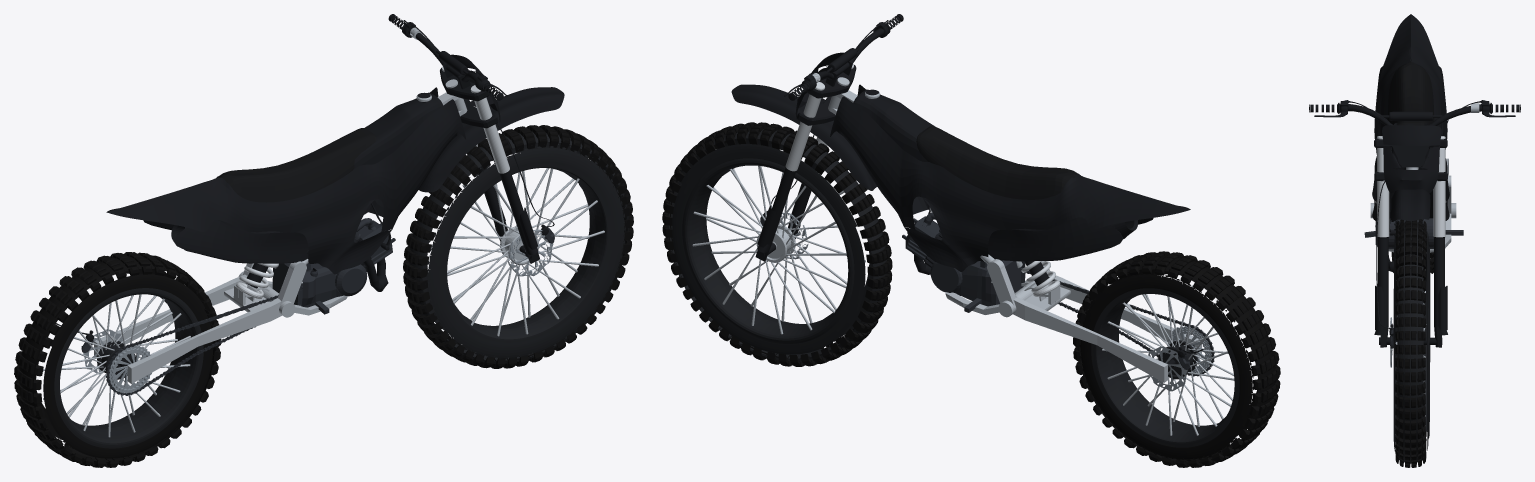
3 views of the same model, side by side, from view 1: azimuth 30°, elevation 25°; view 2: azimuth 150°, elevation 25°; view 3: azimuth 270°, elevation 25° (orthographic). The views are drawn at different scales.
Bounding box in the file's own units: 1.62 × 0.8457 × 0.5011.
Materials: 3 (3 with a texture image).
